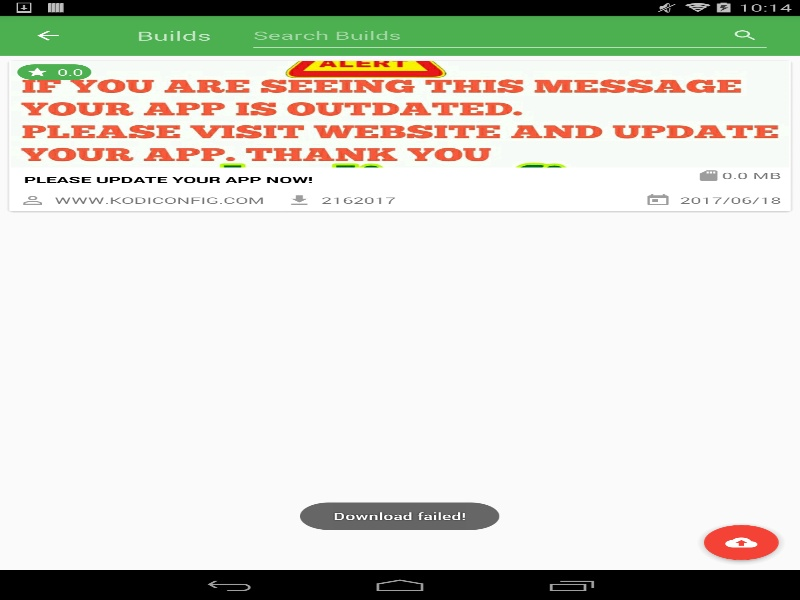Button: (688, 513, 794, 571), (10, 15, 85, 55)
Input: (248, 18, 772, 52)
